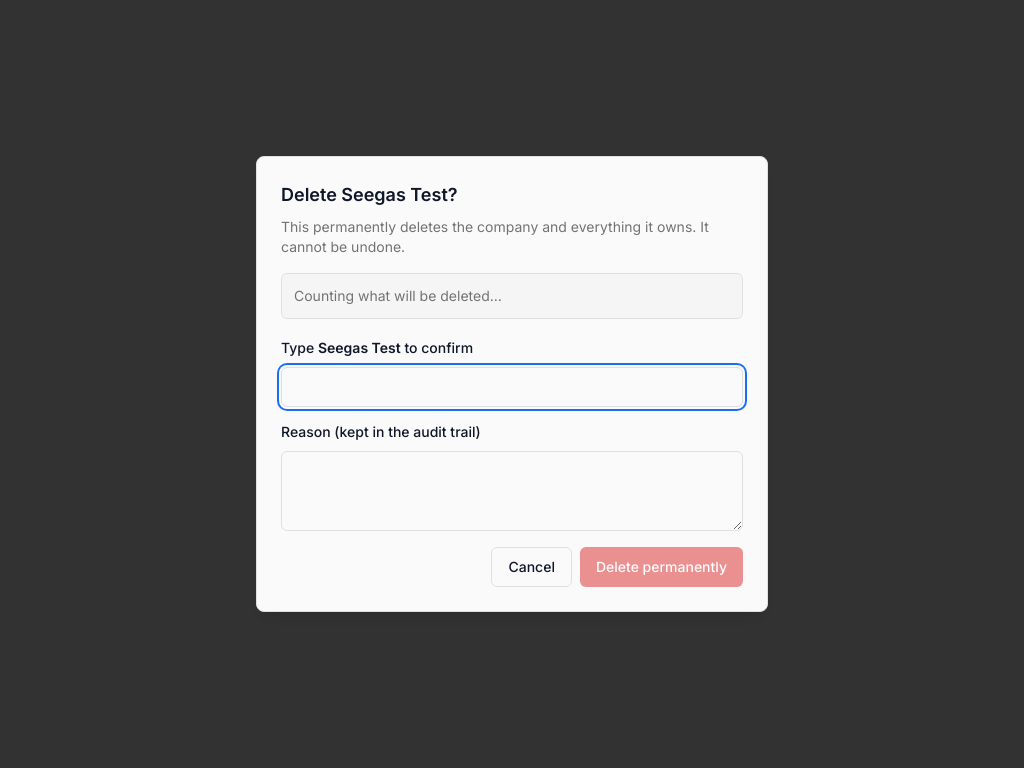
the delete dialog › cannot be confirmed until the exact name and a real reason are typed
The image size is (1024, 768).
Expected: the button "Delete permanently" is disabled, [580,547,743,587]
Type "Test company, not needed" into the text box labelled "Reason (kept in the audit trail)" at (512, 491), box [281,451,743,531]
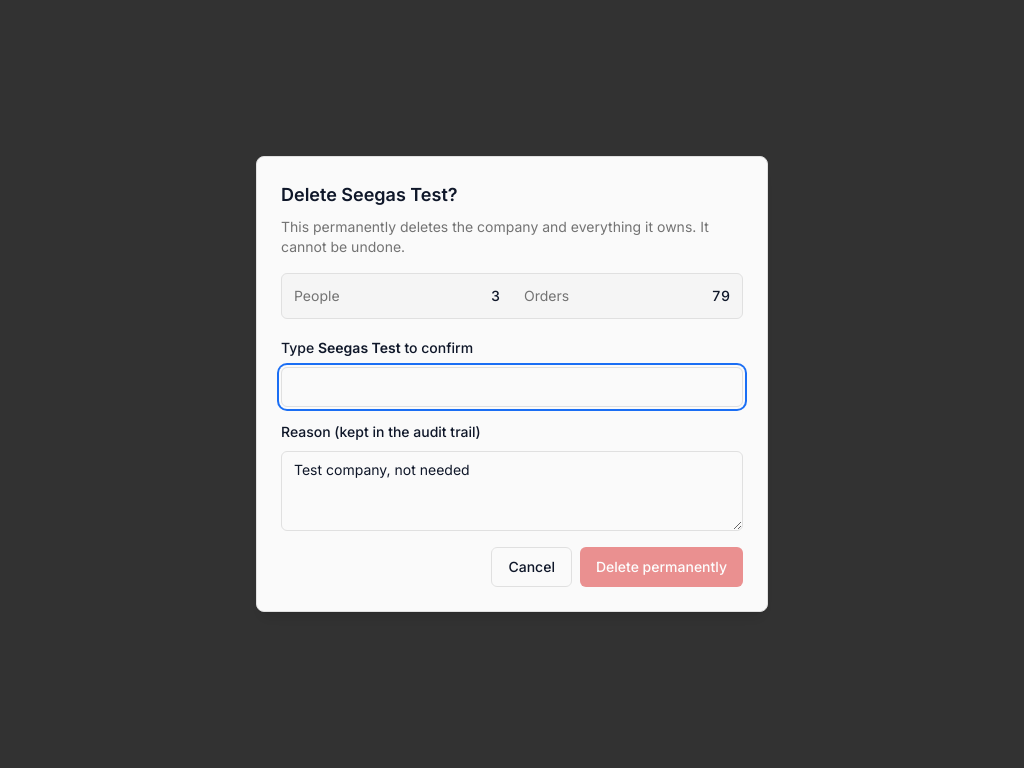
Expected: the button "Delete permanently" is disabled, [580,547,743,587]
Type "Seegas" into the field labelled "Type Seegas Test to confirm" at (512, 387), box [281,367,743,407]
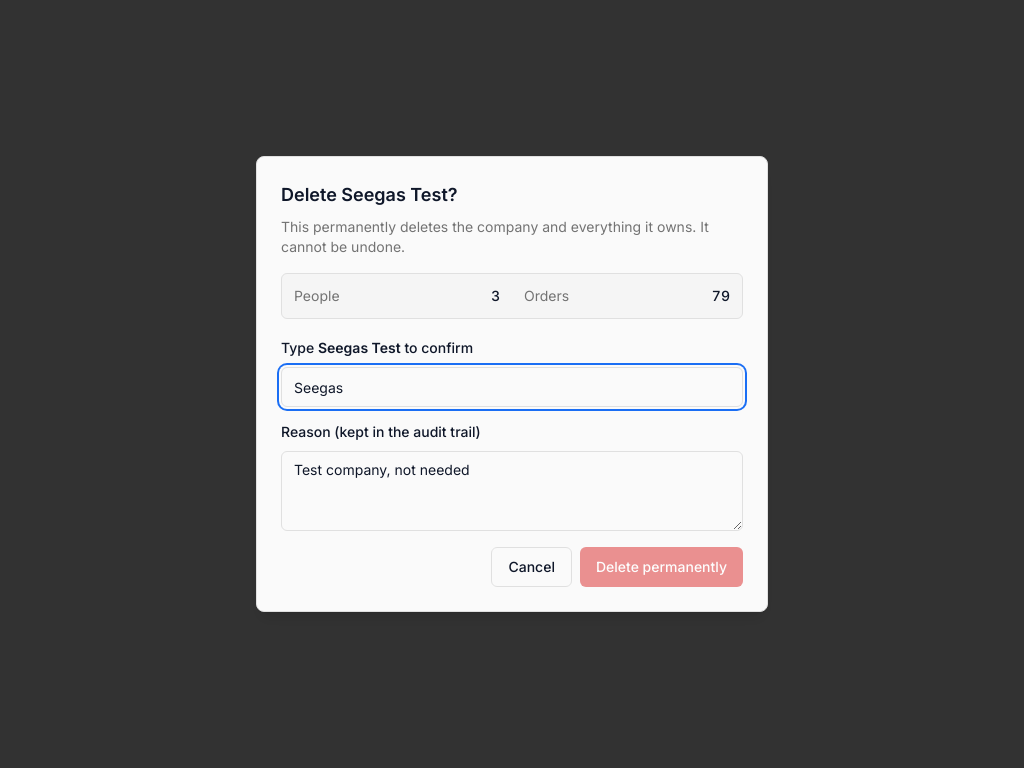
Expected: the button "Delete permanently" is disabled, [580,547,743,587]
Replace the text in the field labelled "Type Seegas Test to confirm" with "Seegas Test" at (512, 387), box [281,367,743,407]
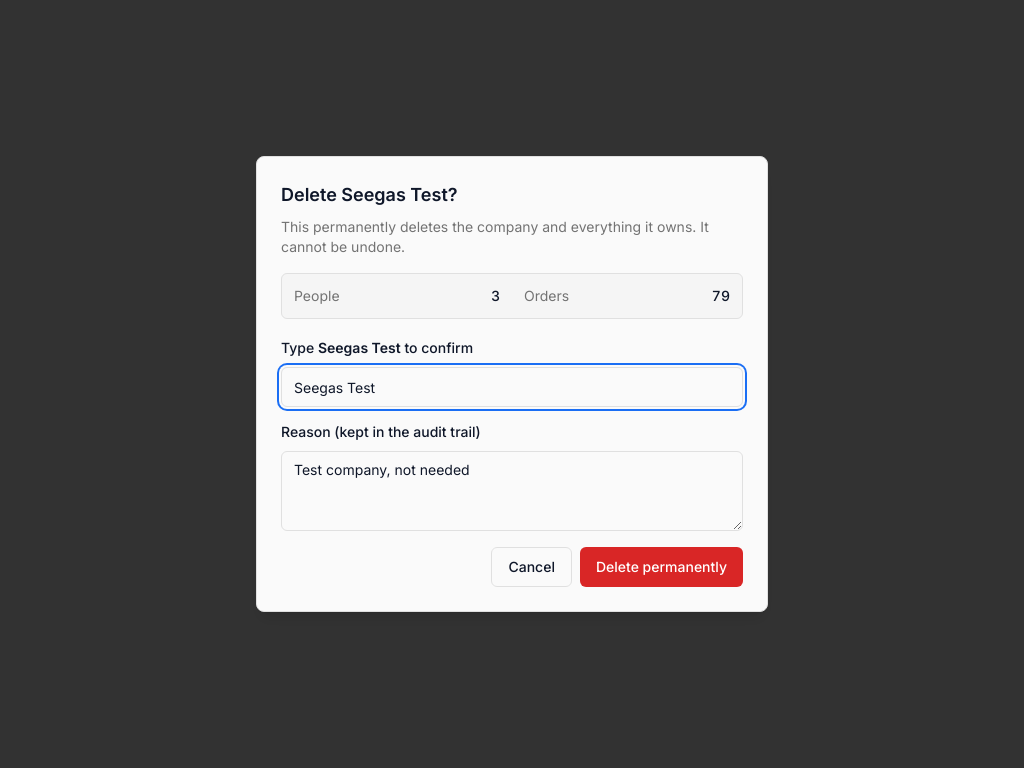
Expected: the button "Delete permanently" is enabled, [580,547,743,587]
Replace the text in the text box labelled "Reason (kept in the audit trail)" with "no" at (512, 491), box [281,451,743,531]
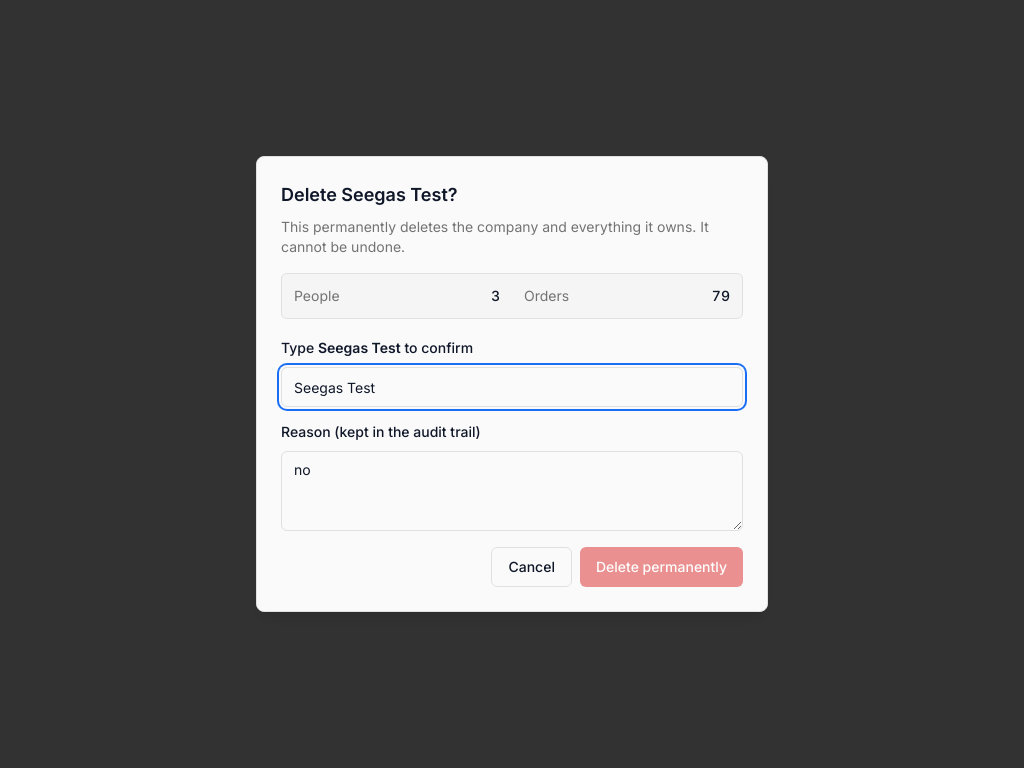
Expected: the button "Delete permanently" is disabled, [580,547,743,587]
